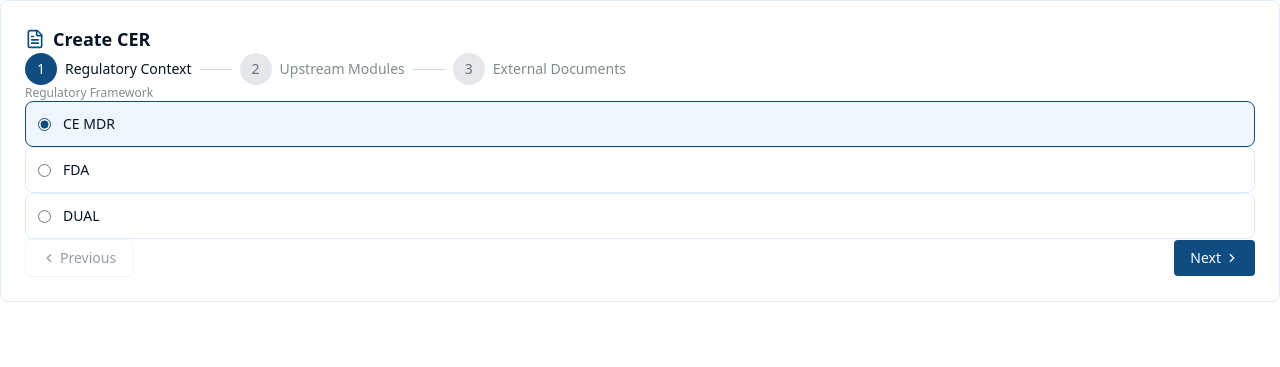
CerCreationForm › navigates back to step 1 on prev click
Click the button with test id "next-btn". click: (1215, 258)
box: [1174, 240, 1255, 276]
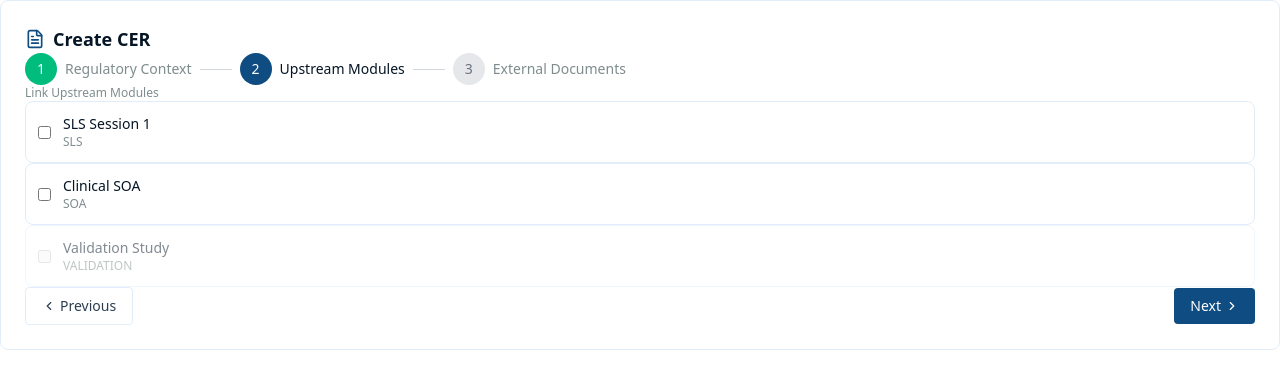
Click the button with test id "prev-btn". click: (79, 306)
box: [25, 287, 133, 325]
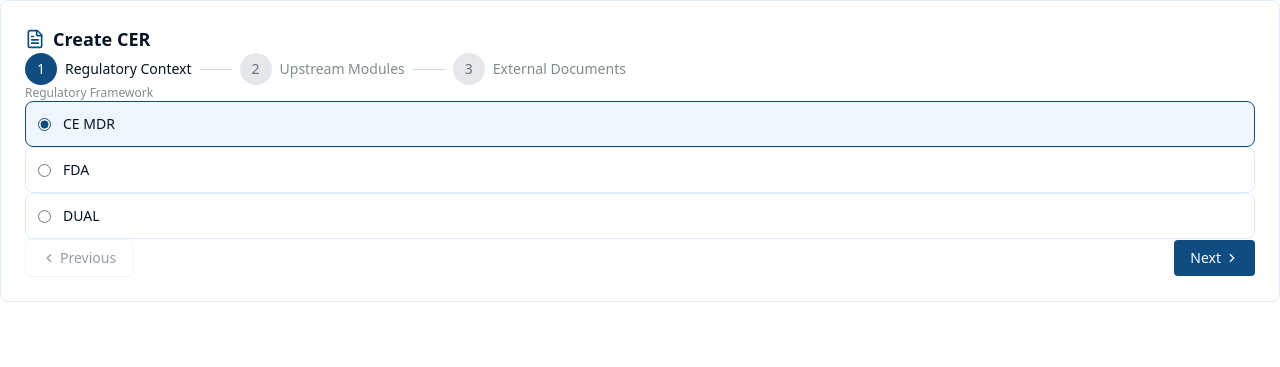
Expected: the element with test id "regulatory-context-selector" is shown, [25, 85, 1255, 239]
